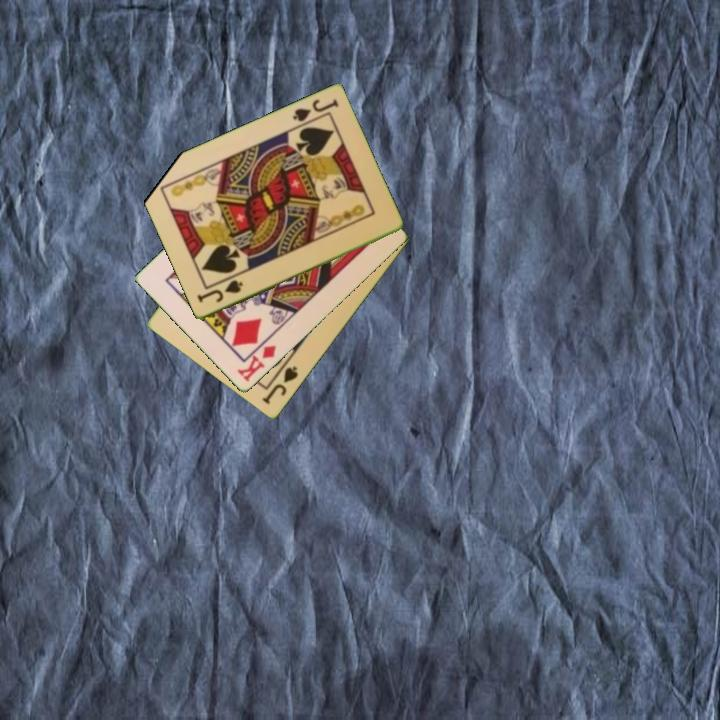Js: (259, 363, 301, 408), (194, 277, 246, 306), (289, 96, 341, 125)
Kd: (234, 334, 279, 385)
